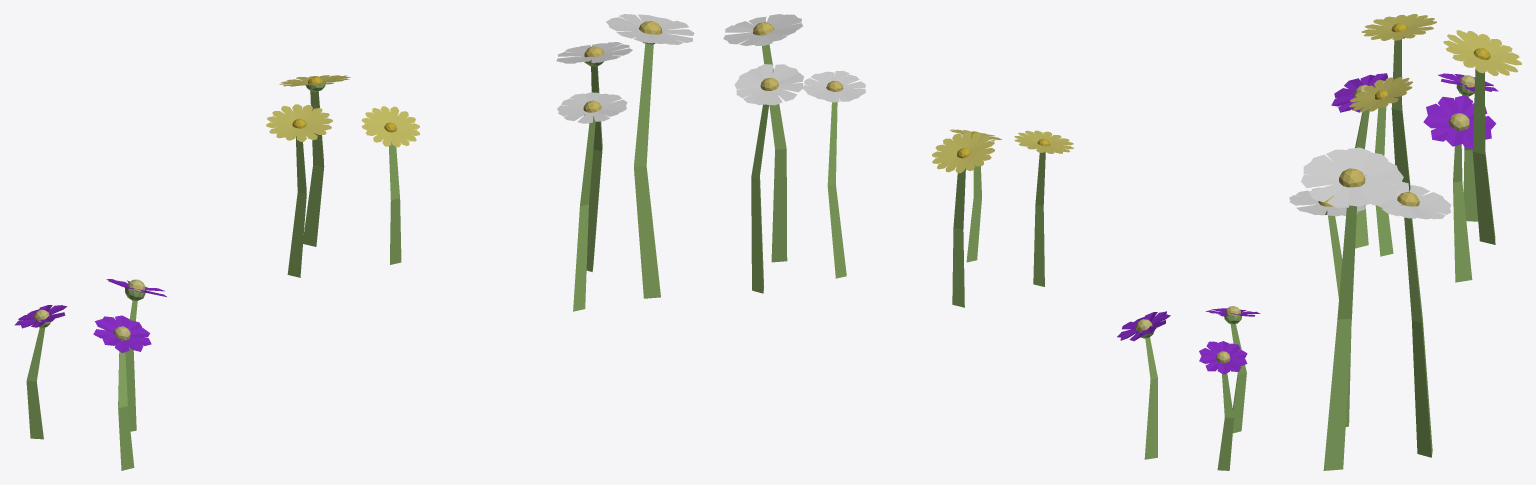
Rendered from Flowers.fbx.
The picture shows the model from 3 angles, left to right: view 1: azimuth 30°, elevation 25°; view 2: azimuth 150°, elevation 25°; view 3: azimuth 270°, elevation 25°; orthographic projection. The views are drawn at different scales.
Visible parts, largest first — view 1: Flower064, Flower063, Flower03; view 2: Flower064, Flower063, Flower03; view 3: Flower064, Flower063, Flower03.
Boxes of the visible parts, <box> form: Flower064: <box>556,14,694,311</box>; Flower063: <box>266,75,420,277</box>; Flower03: <box>14,279,166,470</box>; Flower064: <box>723,14,865,293</box>; Flower063: <box>932,129,1073,307</box>; Flower03: <box>1117,306,1260,470</box>; Flower064: <box>1289,147,1451,470</box>; Flower063: <box>1349,14,1521,256</box>; Flower03: <box>1331,73,1498,282</box>.
Size of the model in its own units: 180 by 91.1 by 51.44.
